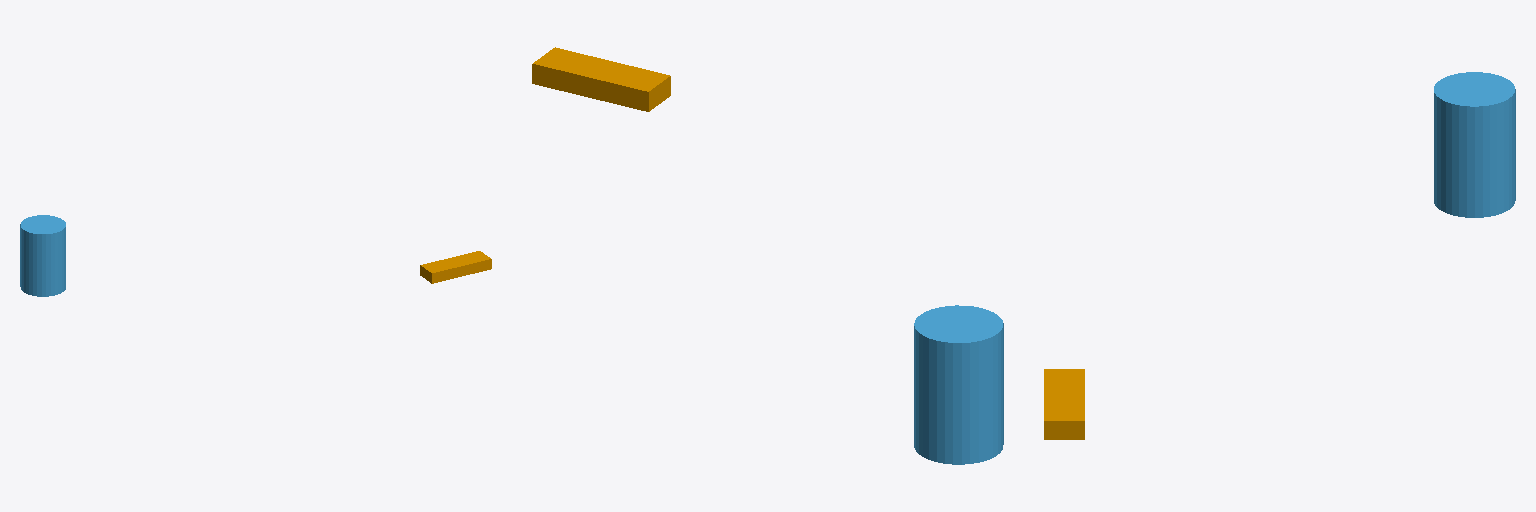
The robot description file, URDF, robot "mysecond":
<?xml version="1.0"?>
<robot name="mysecond">

  <link name="base_link">
    <visual>
     <origin xyz="3 0 0" rpy="0 0 0"/>
      <geometry>
        <box size="0.6 .2 .1"/>
      </geometry>
    </visual>

   <collision>
      <origin xyz="0 0 0" rpy="0 0 0"/>
      <geometry>
    <box size="0.6 .2 .1"/>
      </geometry>
    </collision>

    <inertial>
      <origin xyz="0 0 0" rpy="0 0 0"/>
      <mass value="10"/>
      <inertia 
        ixx="1.0" ixy="0.0" ixz="0.0" 
        iyy="1.0" iyz="0.0" 
        izz="1.0"/>
    </inertial>
  </link>

  <gazebo reference="base_link">
	<static>true</static>
  </gazebo>

 <link name="base_myfirst_link">
    <visual>
     <origin xyz="0 2 0" rpy="0 0 0"/>
      <geometry>
        <cylinder length="0.6" radius="0.2"/>
      </geometry>
    </visual>

   <collision>
      <origin xyz="0 0 0" rpy="0 0 0"/>
      <geometry>
    <cylinder length="0.6" radius="0.2"/>
      </geometry>
    </collision>

   <inertial>
      <origin xyz="0 0 0" rpy="0 0 0"/>
      <mass value="10"/>
      <inertia 
        ixx="1.0" ixy="0.0" ixz="0.0" 
        iyy="1.0" iyz="0.0" 
        izz="1.0"/>
    </inertial>
  </link>

  <gazebo reference="base_myfirst_link">
	<static>false</static>
  </gazebo>

  <joint name="first_joint" type="fixed">
    <parent link="base_link"/>
    <child link="base_myfirst_link"/>
  </joint>

</robot>

--- Facts derived from the render (not from the file) ---
Views: 3 orthographic renders of the robot side by side, from view 1: azimuth 30°, elevation 25°; view 2: azimuth 150°, elevation 25°; view 3: azimuth 270°, elevation 25°.
Model mysecond with 2 links and 1 joints (1 fixed), rooted at base_link, posed all joints at 0.
Visible links, largest first — view 1: base_myfirst_link, base_link; view 2: base_myfirst_link, base_link; view 3: base_myfirst_link, base_link.
Link boxes in pixels (x1,y1,x2,y2): base_myfirst_link: (20,215,65,296); base_link: (420,251,491,283); base_myfirst_link: (914,305,1003,464); base_link: (532,47,670,111); base_myfirst_link: (1434,72,1515,217); base_link: (1044,369,1084,439).
Size in the robot's own frame: 3.5 by 2.3 by 0.6 metres.
Geometry: primitives only (box / cylinder / sphere), no mesh files.
